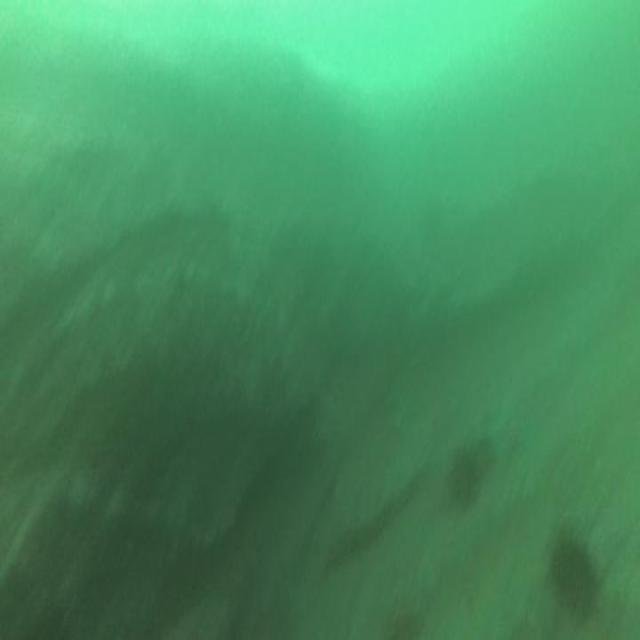echinus: (554, 539, 593, 616), (446, 447, 475, 503)
